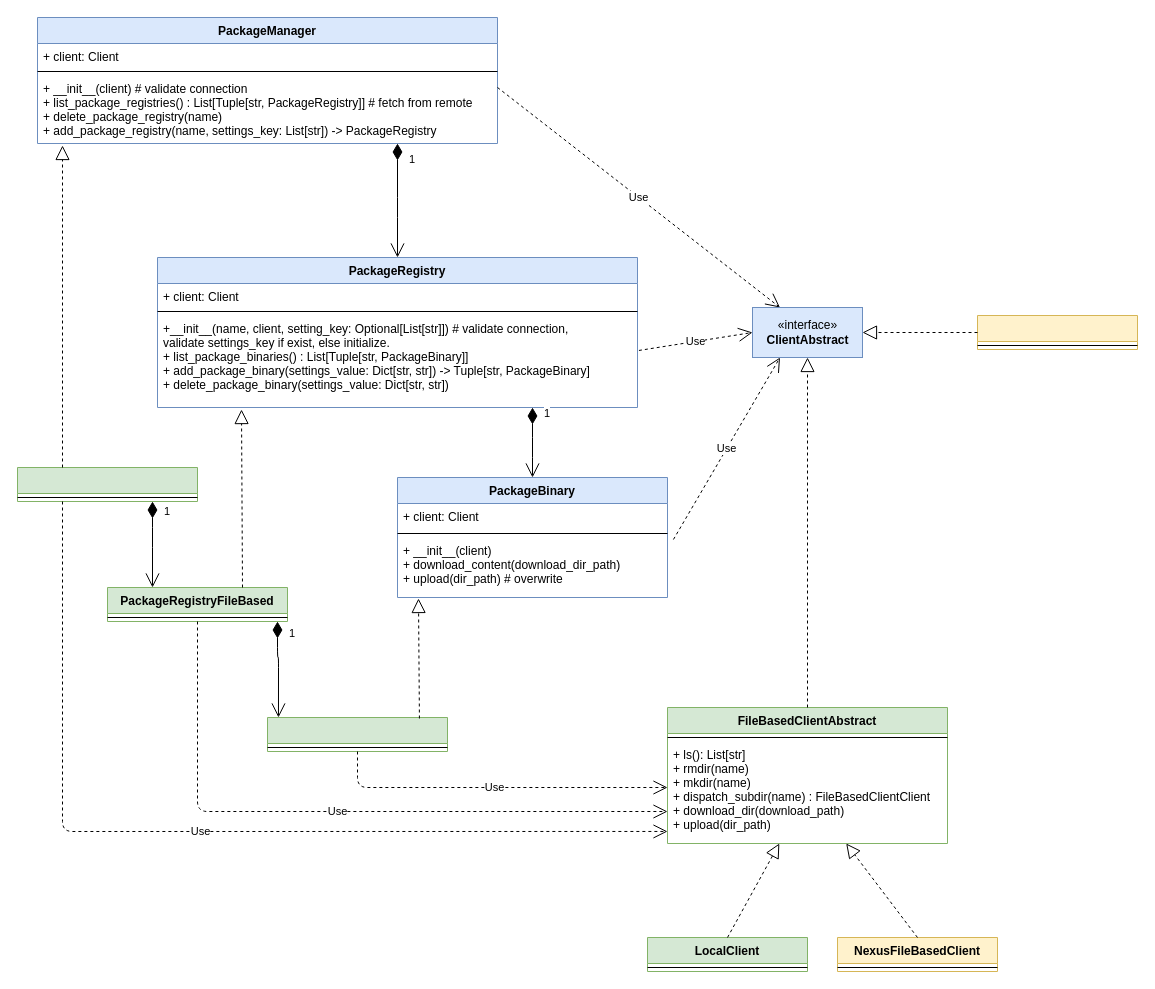
This 1155x989 diagram has some shape labels left out. Each missing label, with the centre of its shape:
NexusAPIClient: (x=1057, y=332)
PackageBinaryFileBased: (x=357, y=734)
PackageManagerFileBased: (x=107, y=484)
